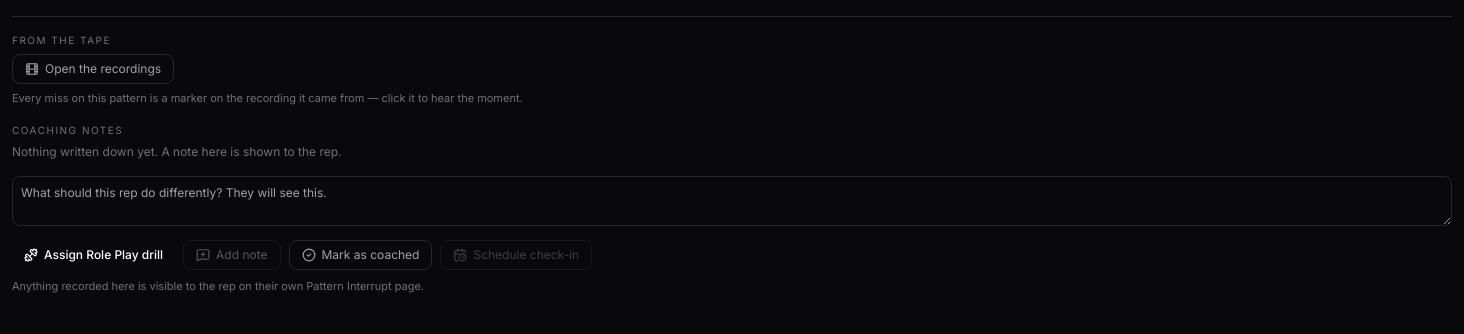
what a manager can do › surfaces a refusal from the server instead of pretending it worked
Click the button "Mark as coached" at (360, 254), box [288, 240, 432, 270]
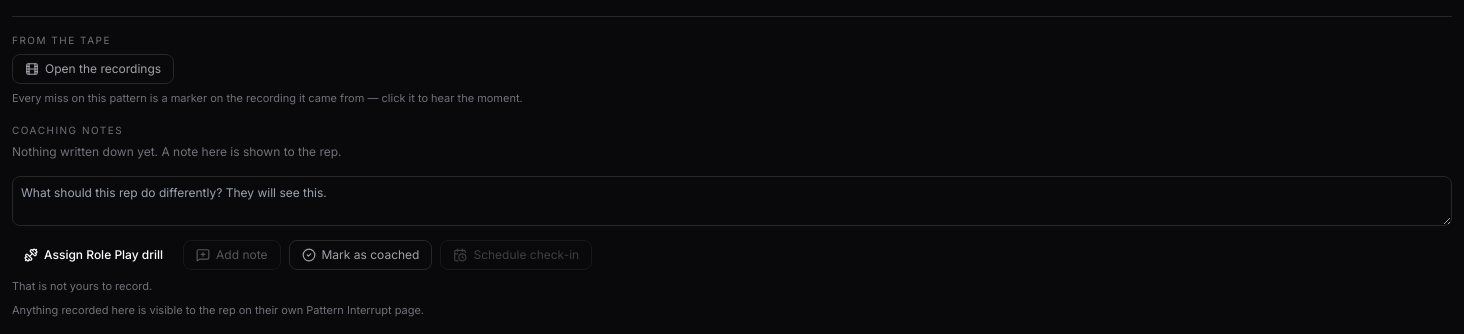
Result: the text "That is not yours to record." is shown at [12, 278, 152, 292]
